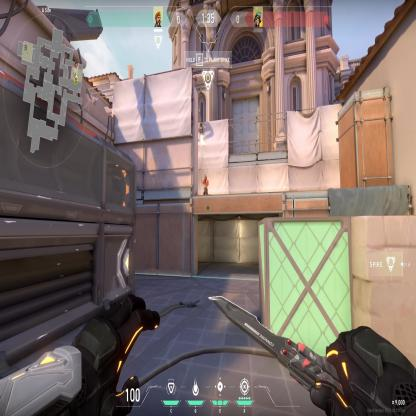enemy: (202, 173, 209, 196)
